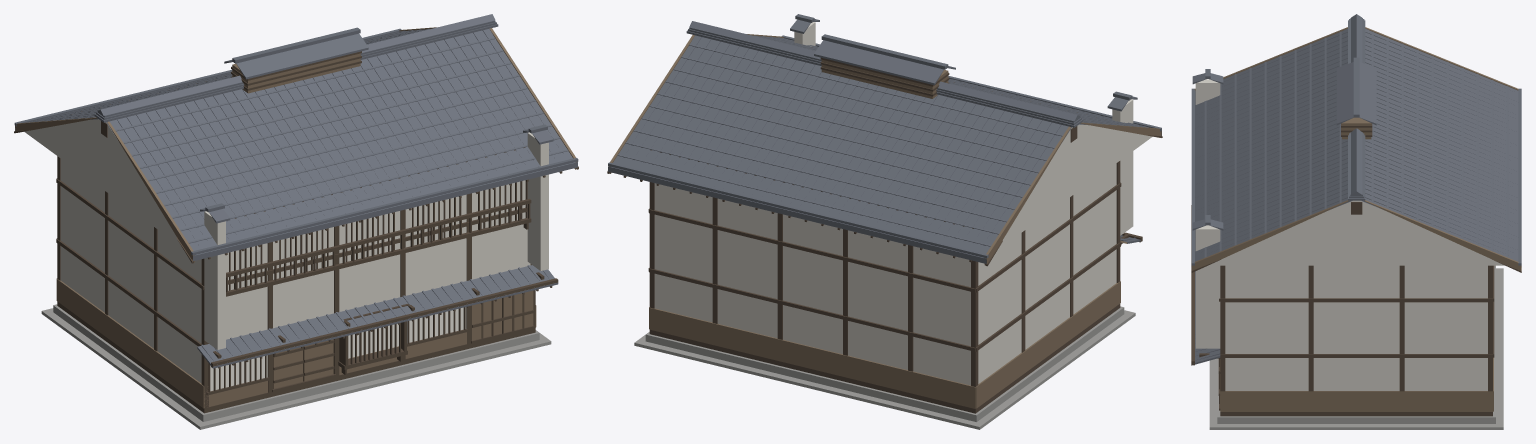
Rendered from machiya_n_o.glb.
3 views of the same model, side by side, from view 1: azimuth 30°, elevation 25°; view 2: azimuth 150°, elevation 25°; view 3: azimuth 270°, elevation 25° (orthographic). The views are drawn at different scales.
Visible parts, largest first — view 1: machiya_n_o; view 2: machiya_n_o; view 3: machiya_n_o.
Part boxes in pixels (bbox=[...]): machiya_n_o: bbox=[14, 14, 578, 429]; machiya_n_o: bbox=[607, 14, 1162, 429]; machiya_n_o: bbox=[1191, 14, 1521, 429].
Bounding box in the file's own units: 12.38 × 8.55 × 9.69.
